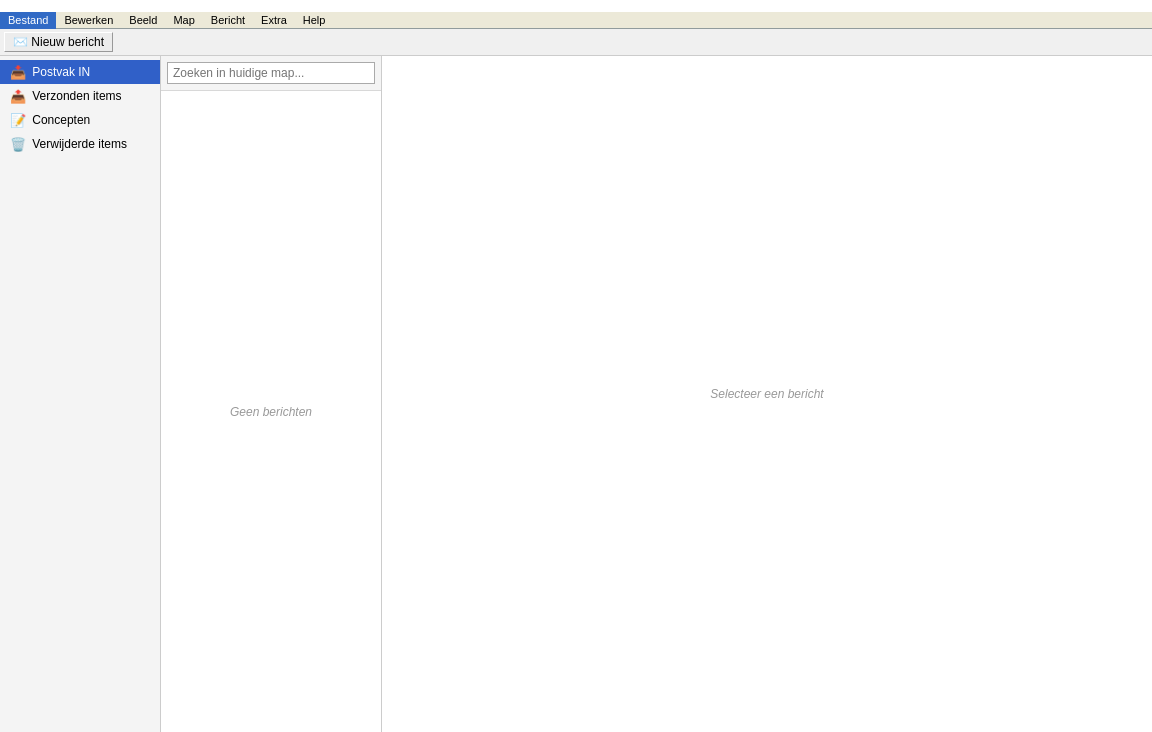
MailPane › renders the DX menubar, moves search above the list, and opens signature editor from Extra
Expected: the element showing "Bestand Bewerken Beeld Map Bericht Extra Help" is shown, [0,12,1151,29]
Expected: the search field with placeholder "Zoeken in huidige map..." is shown, [167,62,375,84]
Click the text "Extra": click(274, 20) [261,14,287,26]
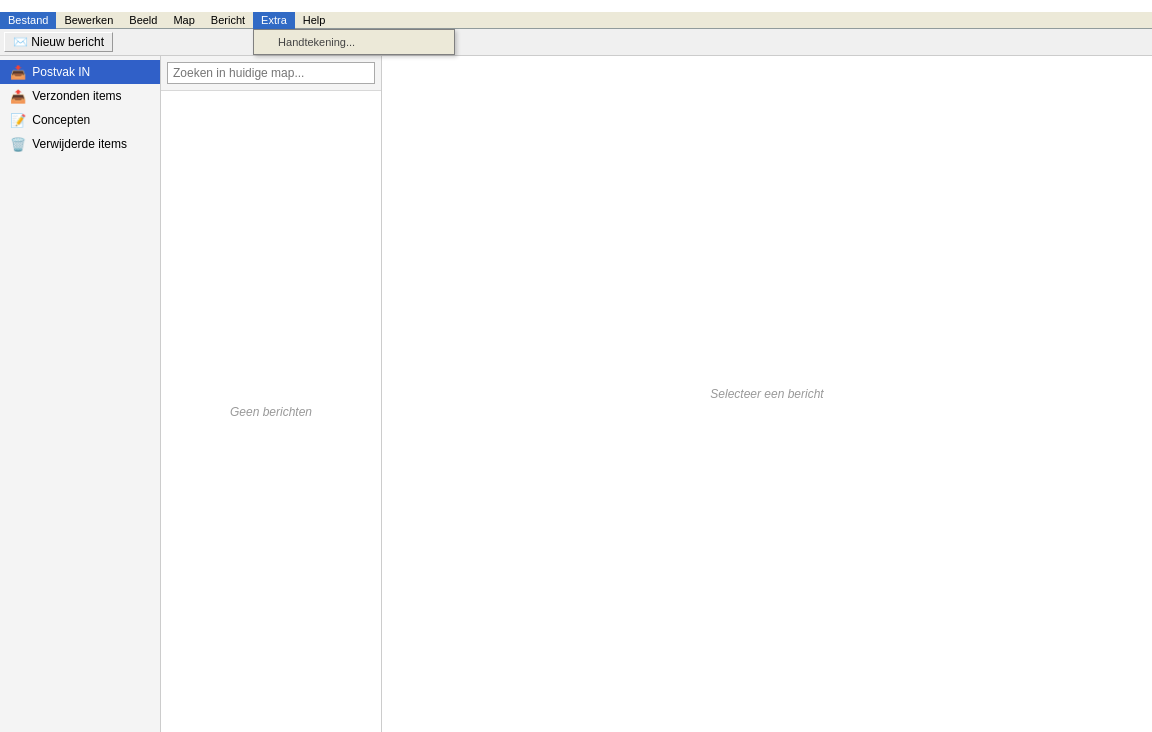
Click the text "Handtekening...": click(317, 42) [278,36,355,48]
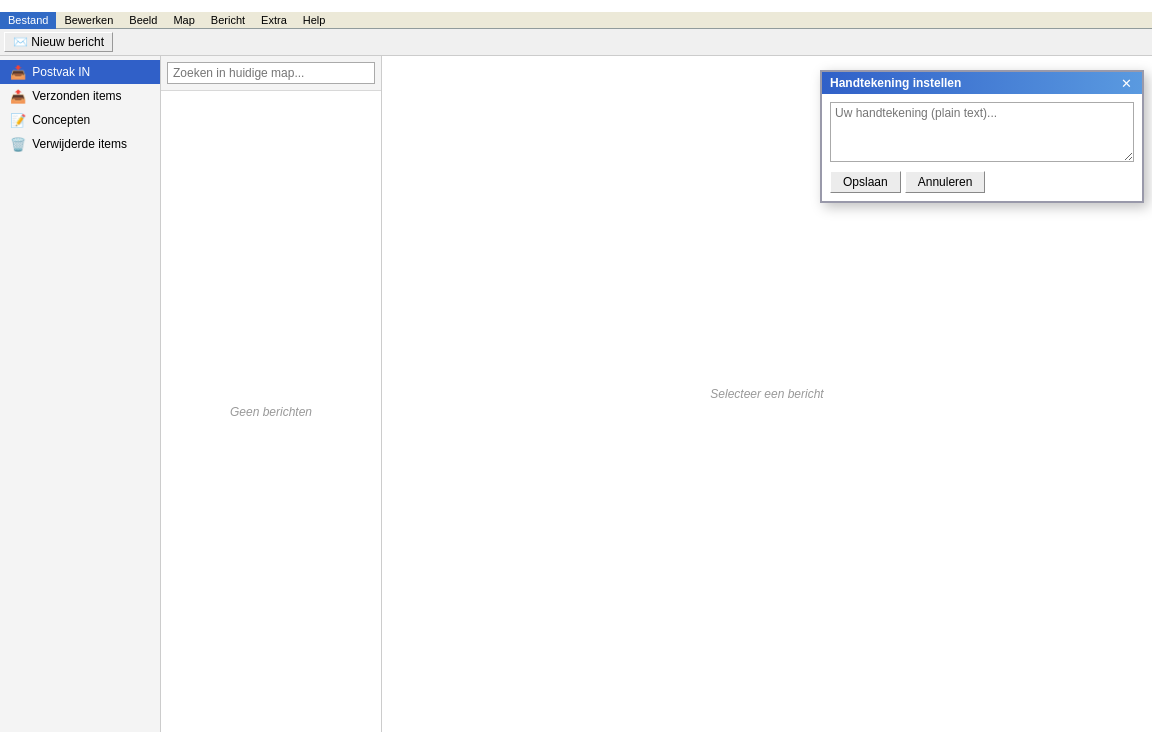
Now the text box labelled "handtekening" is shown, box [830,102,1134,162]
